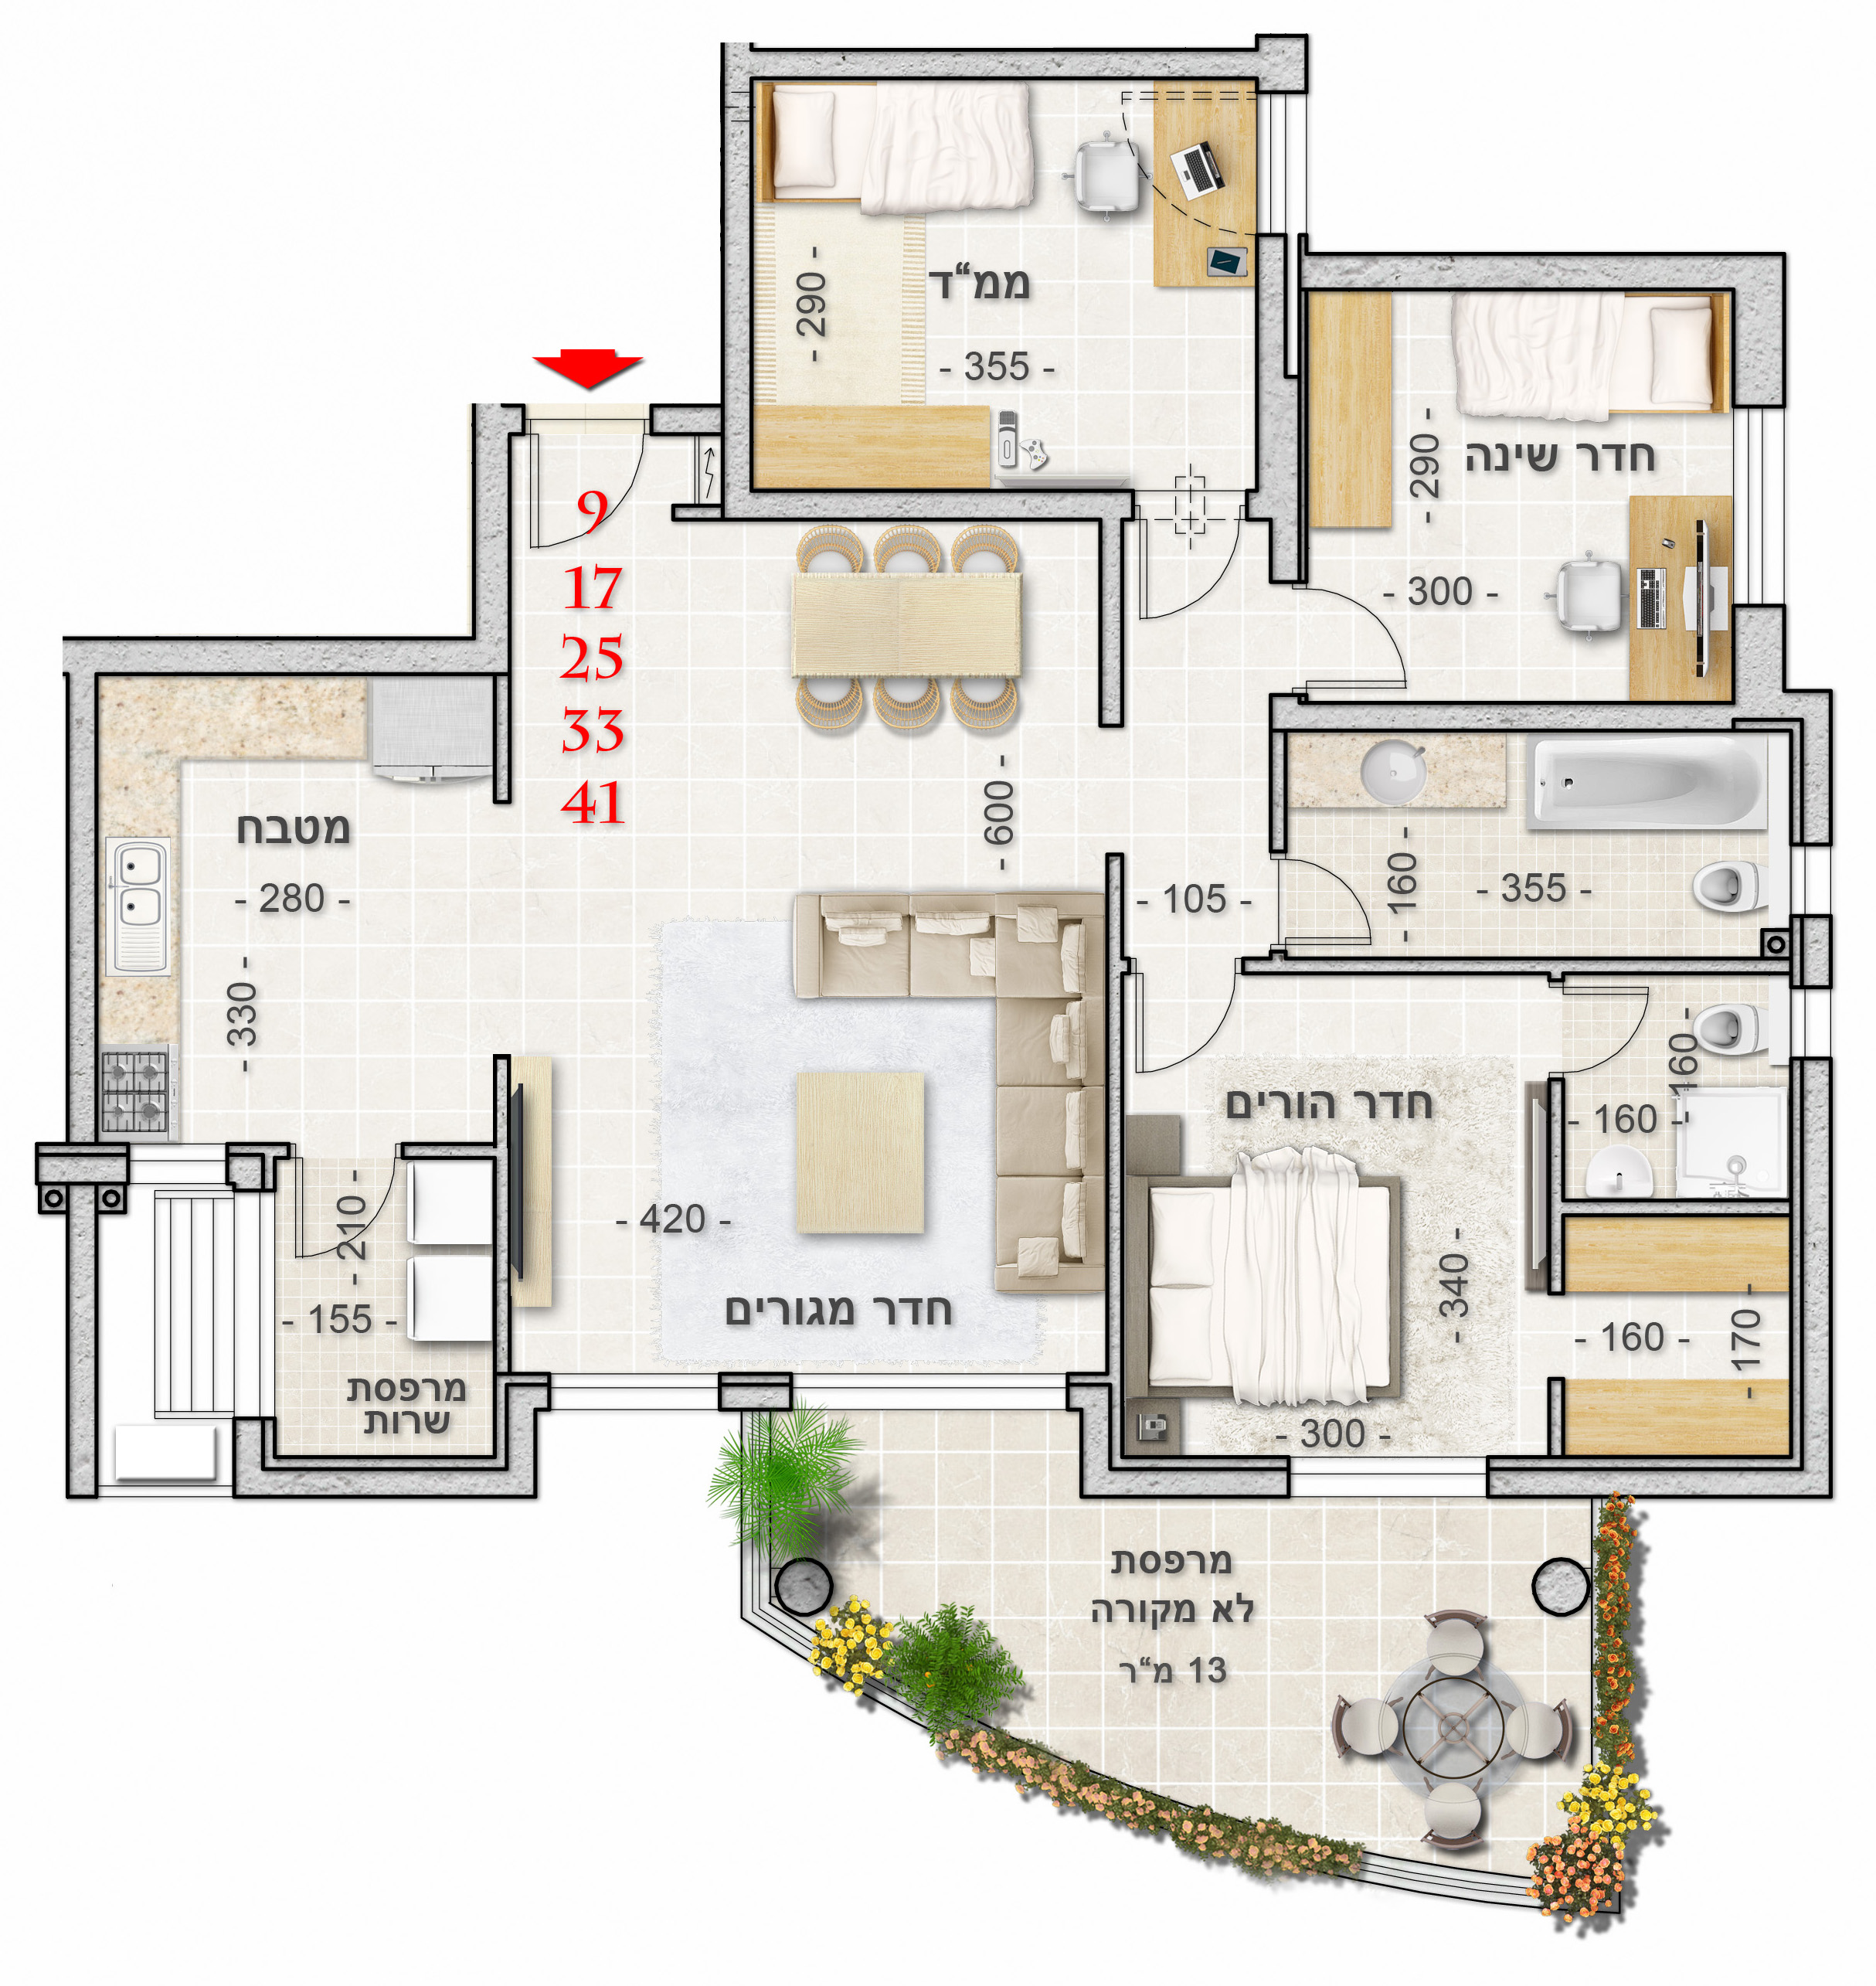door: (513, 448, 658, 568), (1134, 979, 1264, 1085), (1324, 582, 1418, 697), (1128, 534, 1252, 621), (287, 1169, 395, 1266), (1303, 840, 1381, 951), (1573, 979, 1657, 1074)
wall: (723, 53, 1314, 79), (1308, 256, 1784, 286), (1802, 1058, 1834, 1501), (1275, 698, 1728, 728), (65, 638, 92, 1139), (93, 638, 510, 670), (721, 489, 1132, 520), (1105, 852, 1125, 1462), (725, 141, 751, 515), (1486, 1467, 1832, 1496), (1731, 252, 1783, 404), (1097, 494, 1121, 728), (1083, 1469, 1289, 1496), (1802, 698, 1827, 843)
window: (1733, 406, 1786, 601), (1791, 845, 1834, 915)
